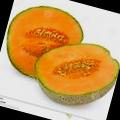Melon Ripe: (26, 30, 120, 116), (0, 0, 89, 89)
